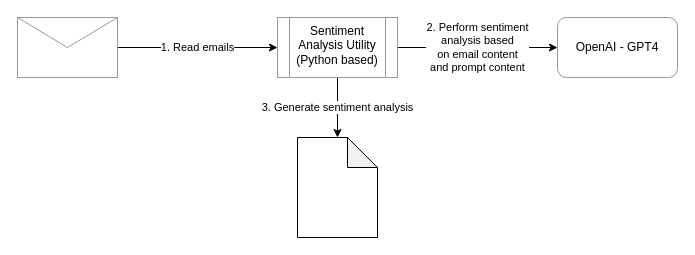
Some shapes in this 695 by 255 pixel diagram are drawn without their labels. Here are the shapes that lost their labels. From the top down, the centre of each, then its label:
the point at 67,47: Sample Emails
the point at 337,187: Sentiment analysis output
